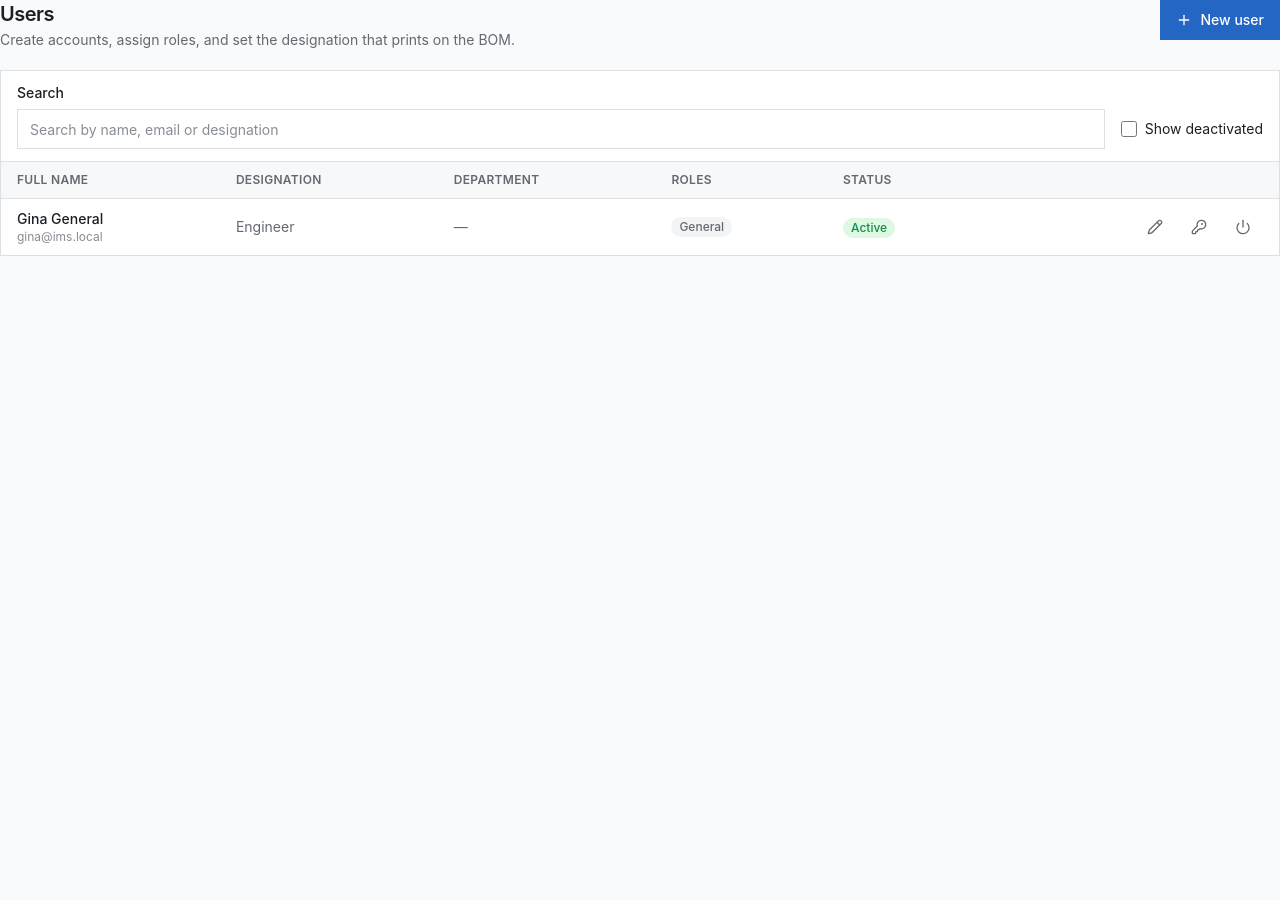
it: UsersPage deactivation › asks before deactivating, and says what happens
The image size is (1280, 900).
What coordinates should you click on to do the following:
click the button named "Deactivate Gina General"
I would click on:
 (1243, 227)
Its box is [1223,211,1263,243].
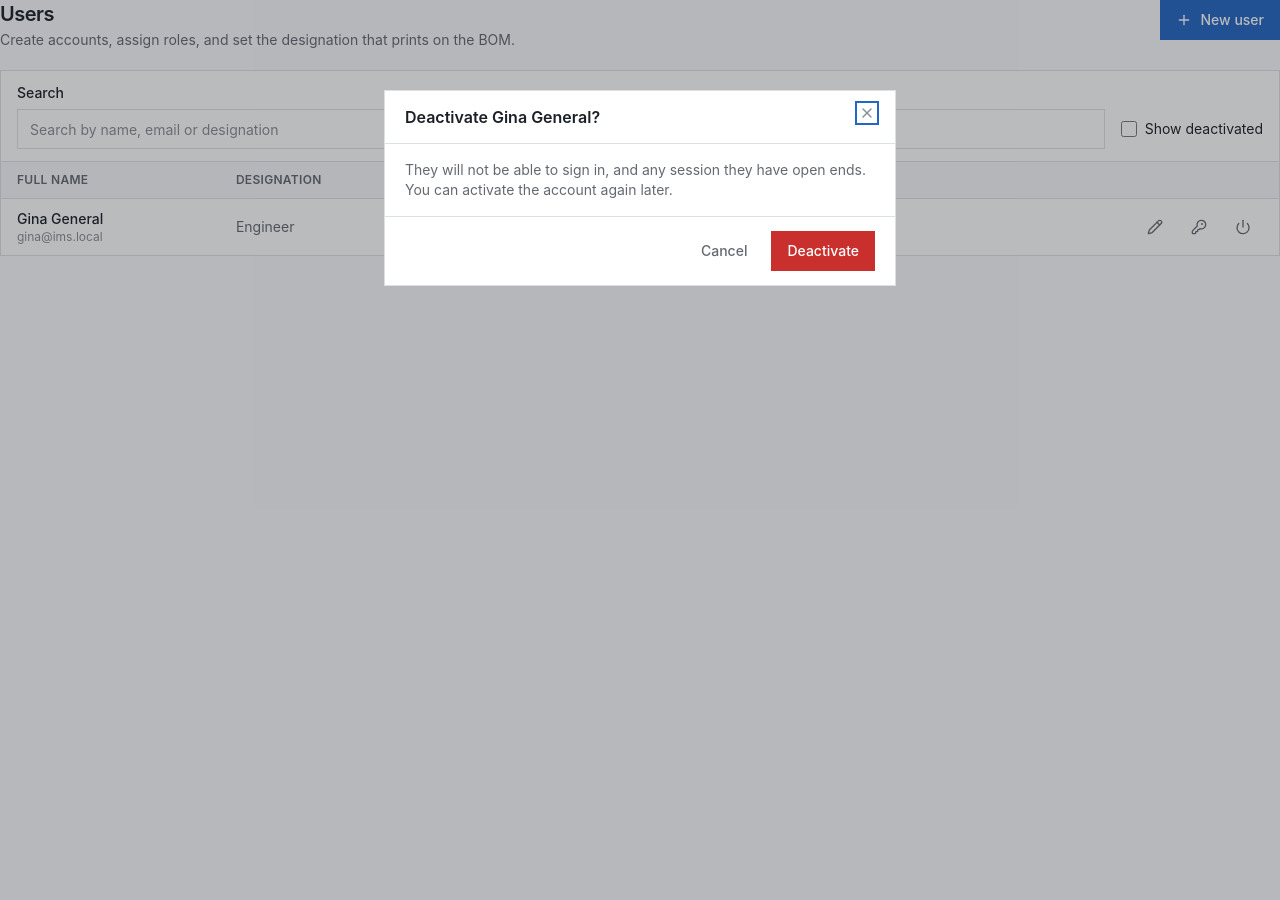
Expected: the text "They will not be able to sign in, and any session they have open ends. You can activate the account again later." is shown, [405,161,866,198]
